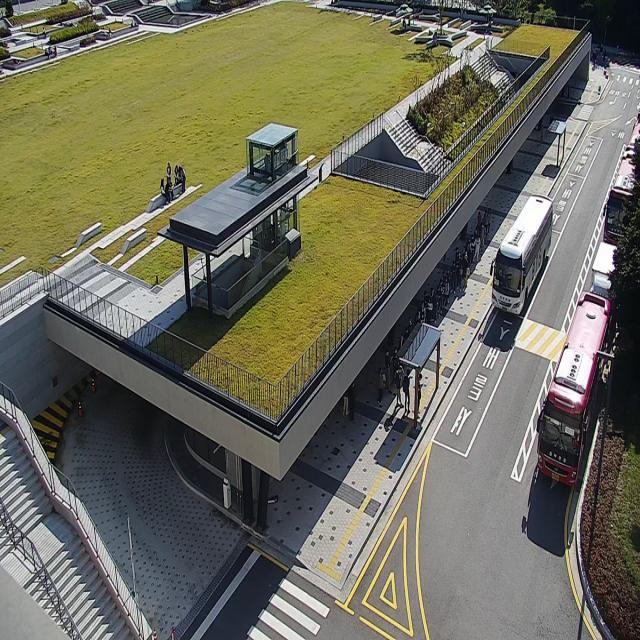queue: (416, 206, 490, 426)
